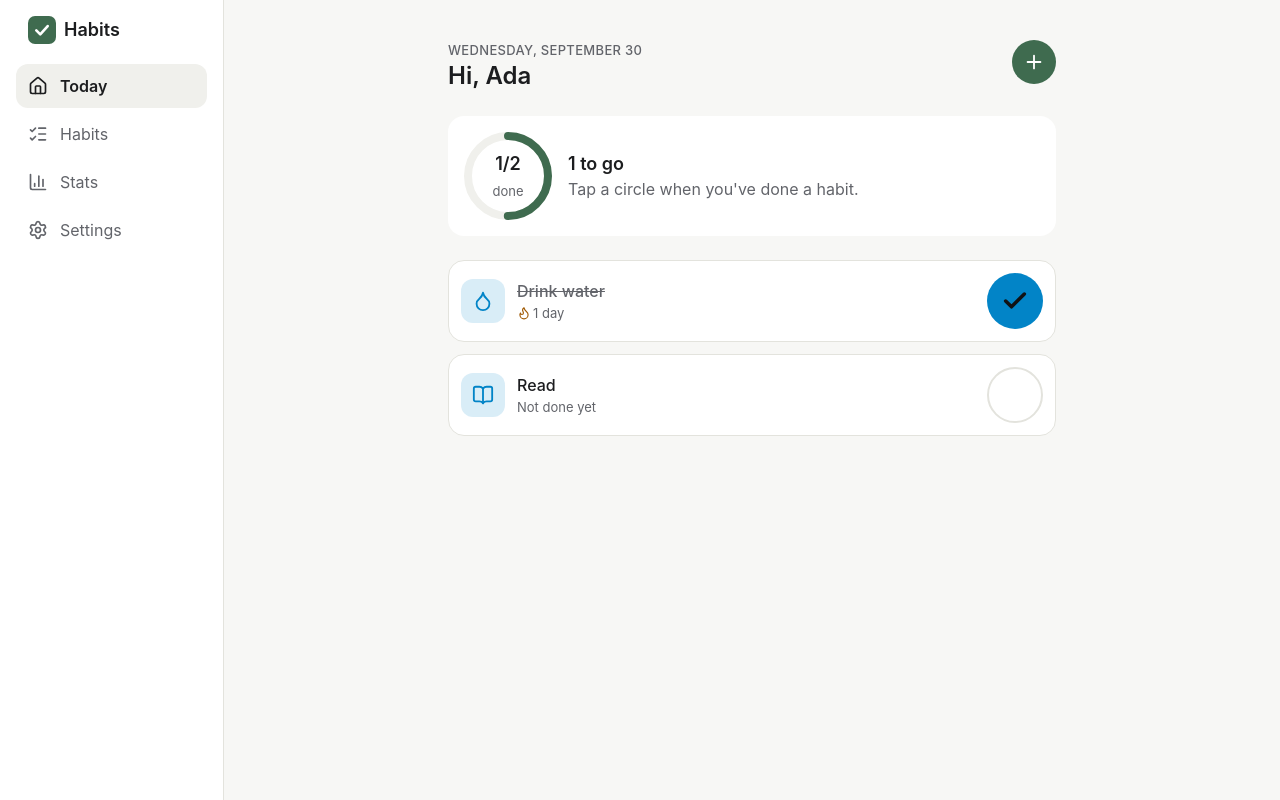
Scenario: checking a habit off › celebrates when the last habit of the day is done
Click the button named "Mark Read done" at (1015, 395), box [987,367,1043,423]
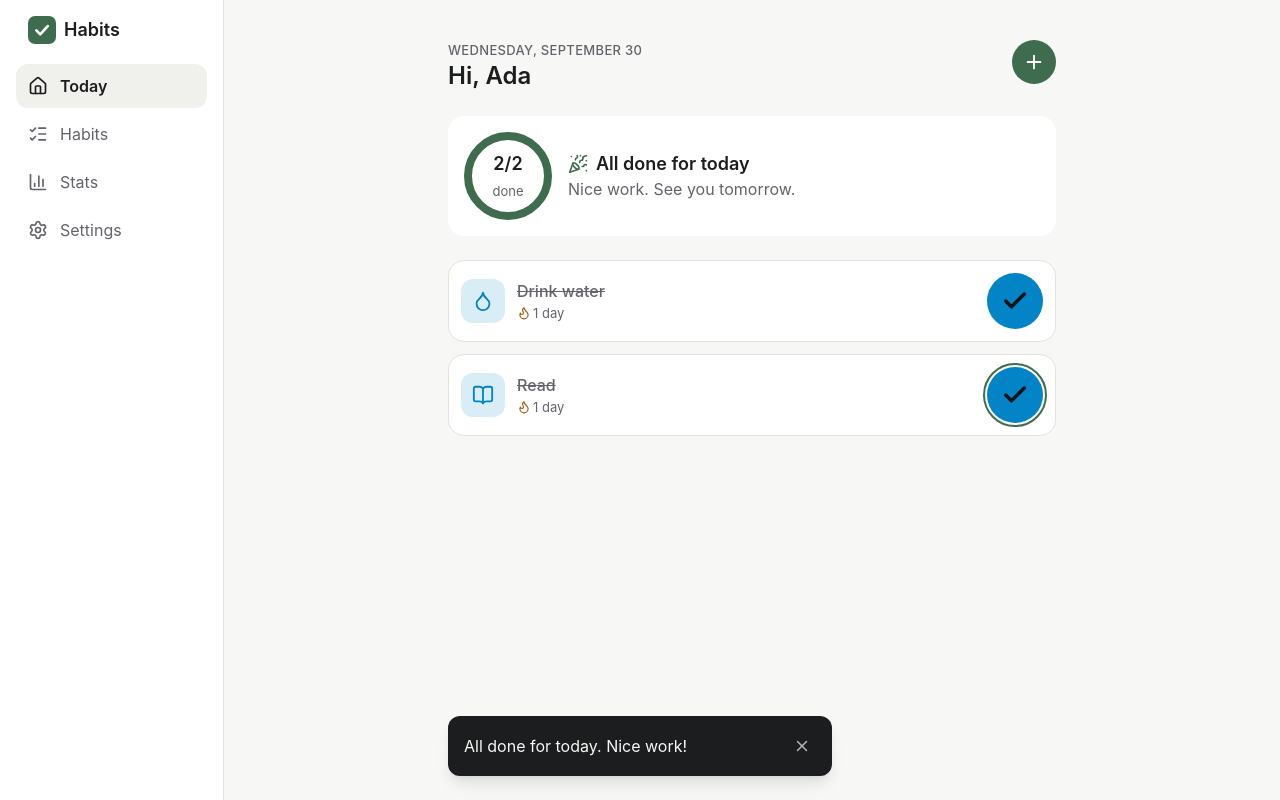
Result: the text "All done for today. Nice work!" is shown at [464,736,687,756]
Result: the text "All done for today" is shown at [568,153,750,174]
